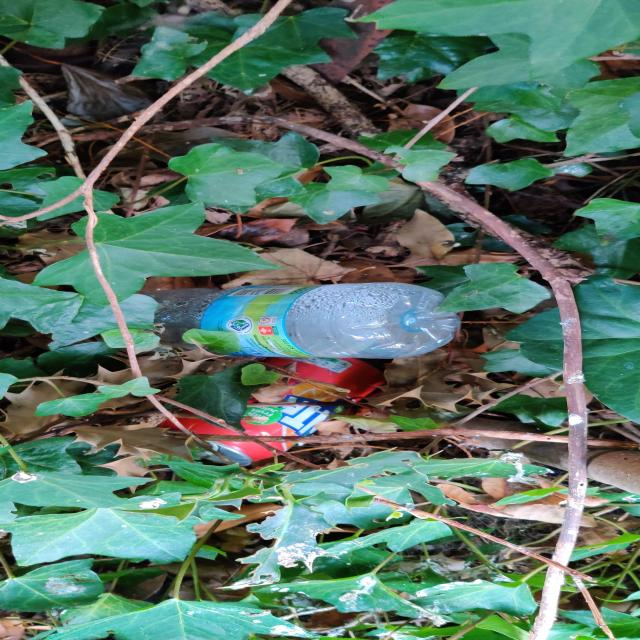litter: (162, 360, 381, 466), (157, 283, 459, 358)
